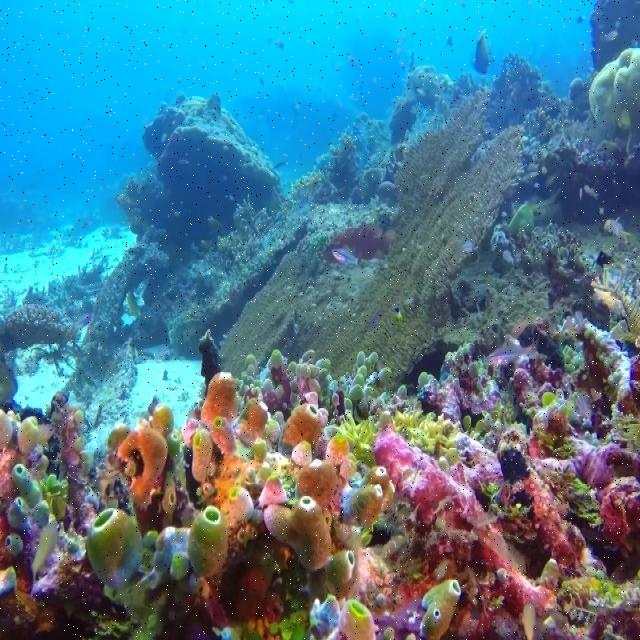aquatic plants: (232, 265, 639, 639), (0, 374, 462, 639)
